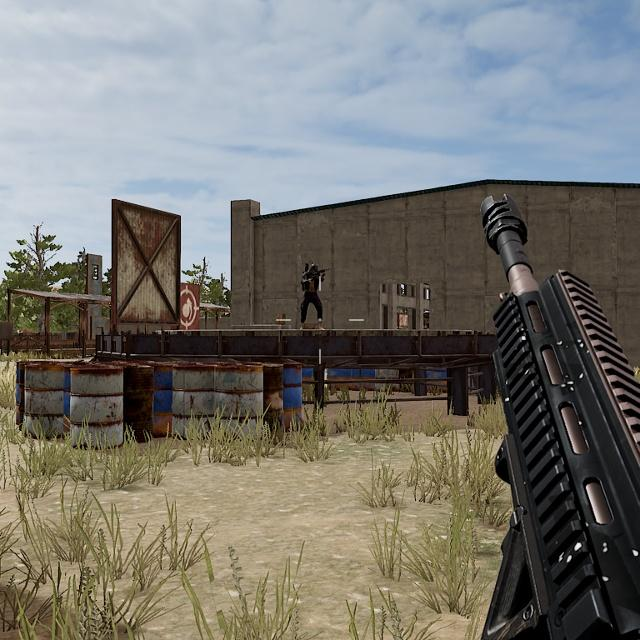head: (306, 260, 321, 278)
people: (295, 258, 335, 331)
